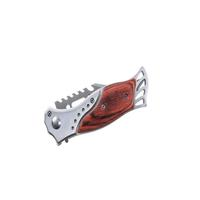knife: (33, 57, 156, 150)
